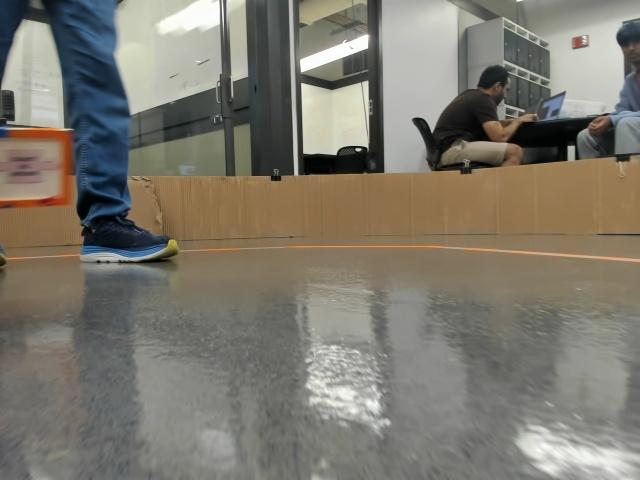Do Not Go Around: (1, 145, 56, 184)
